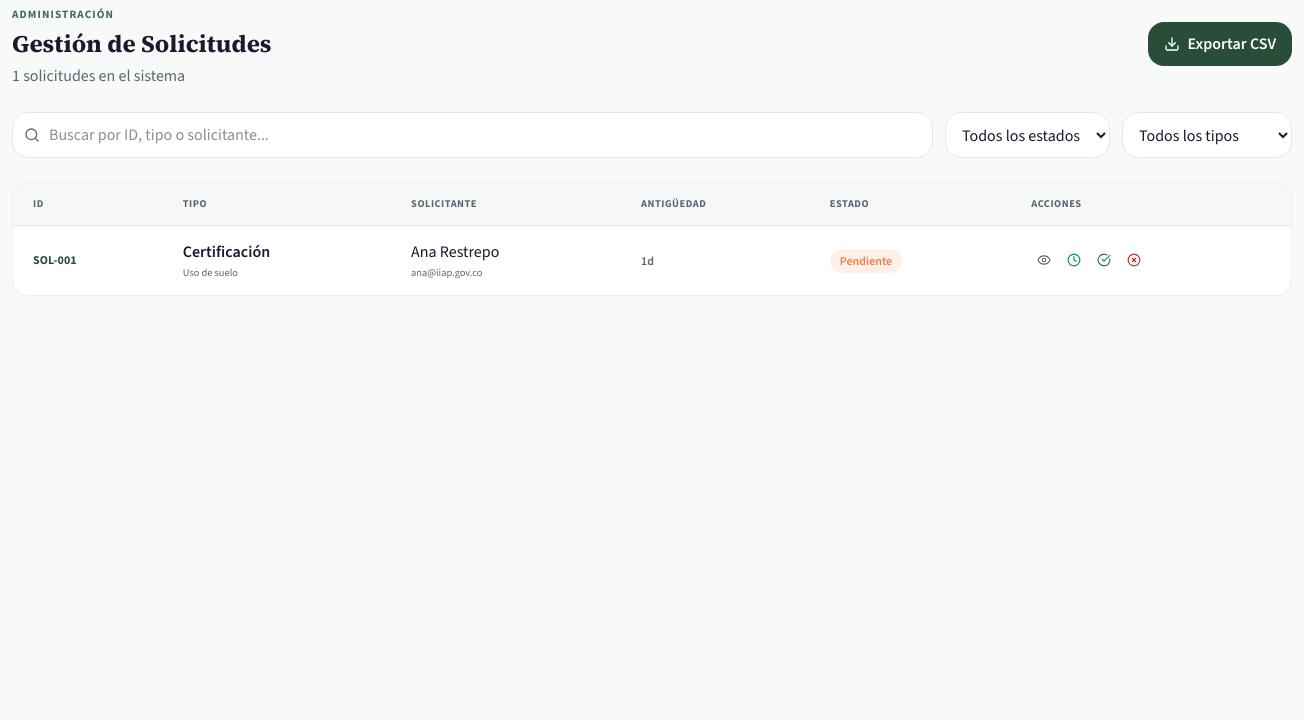
Test case: GestionSolicitudes — tabla › si falla marcar en revisión, muestra un toast de error
Click the button titled "Marcar en revisión" at (1074, 260), box [1061,247,1087,273]
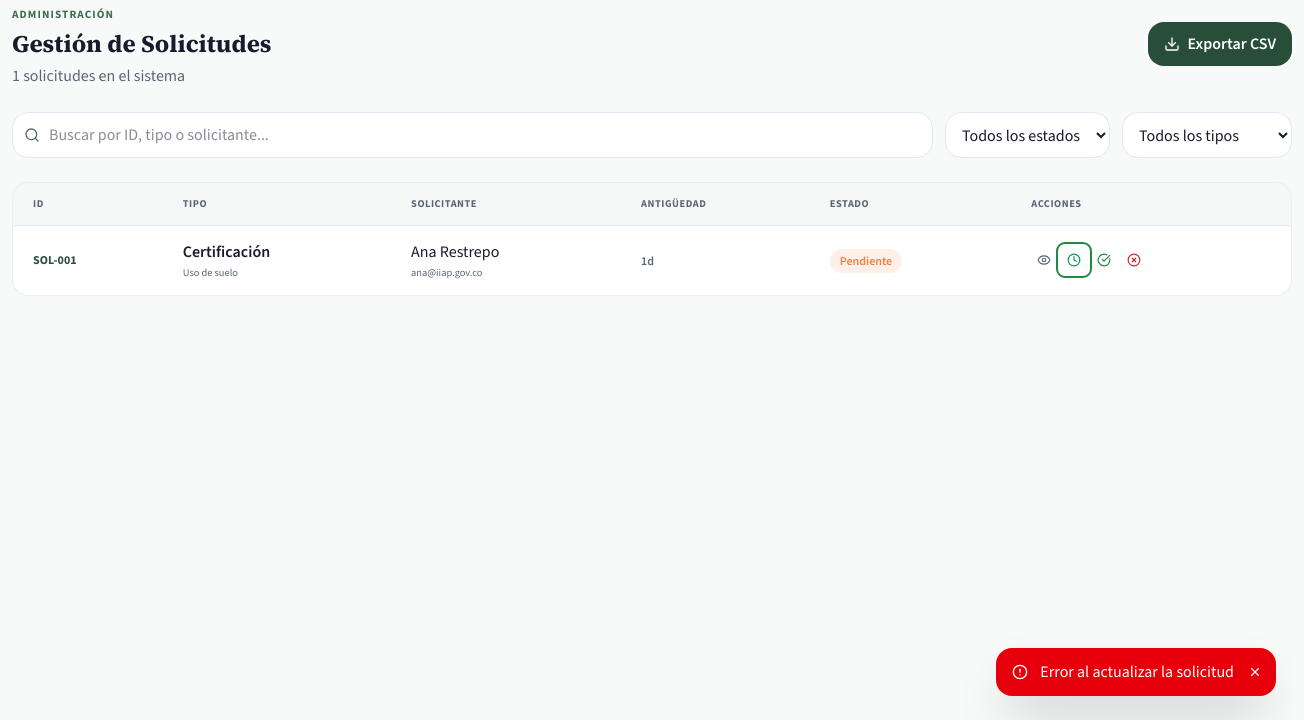
expect the text "Error al actualizar la solicitud" is shown: met, box [1040,660,1234,684]
